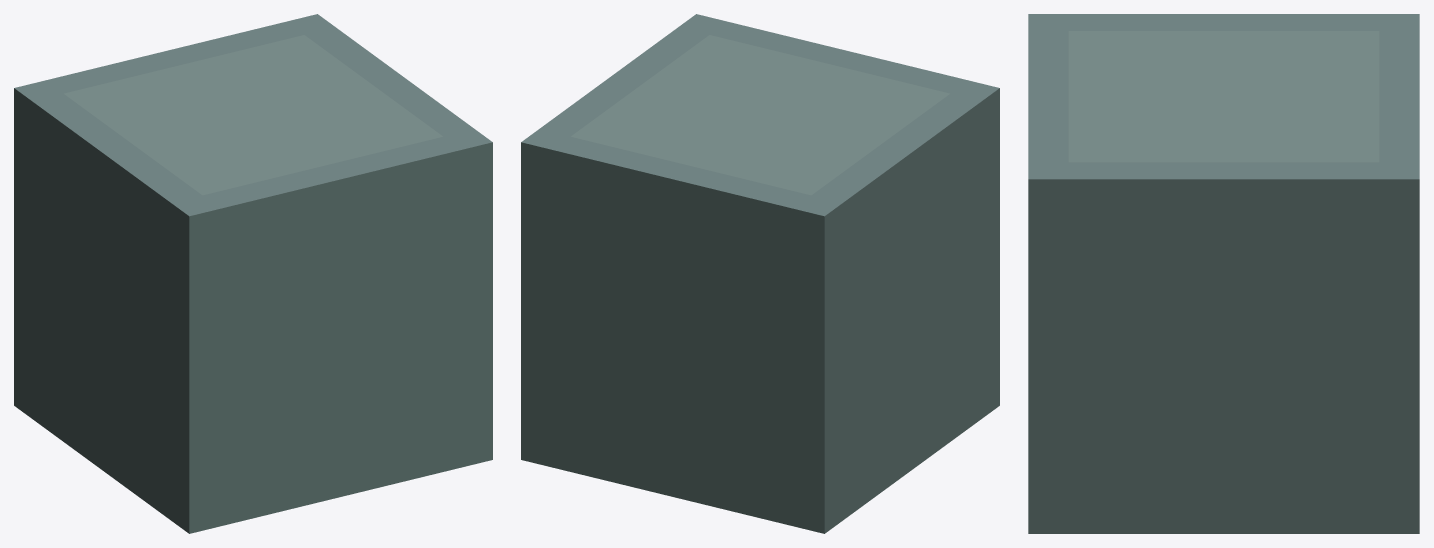
The model's file is diji01.FBX.
3 views of the same model, side by side, from view 1: azimuth 30°, elevation 25°; view 2: azimuth 150°, elevation 25°; view 3: azimuth 270°, elevation 25° (orthographic). The views are drawn at different scales.
Visible parts, largest first — view 1: diji01; view 2: diji01; view 3: diji01.
Part boxes in pixels (box(x1,y1,x2,y2)): diji01: box(14, 14, 492, 533); diji01: box(521, 14, 999, 533); diji01: box(1028, 14, 1419, 533).
Bounding box in the file's own units: 100 × 100 × 100.
